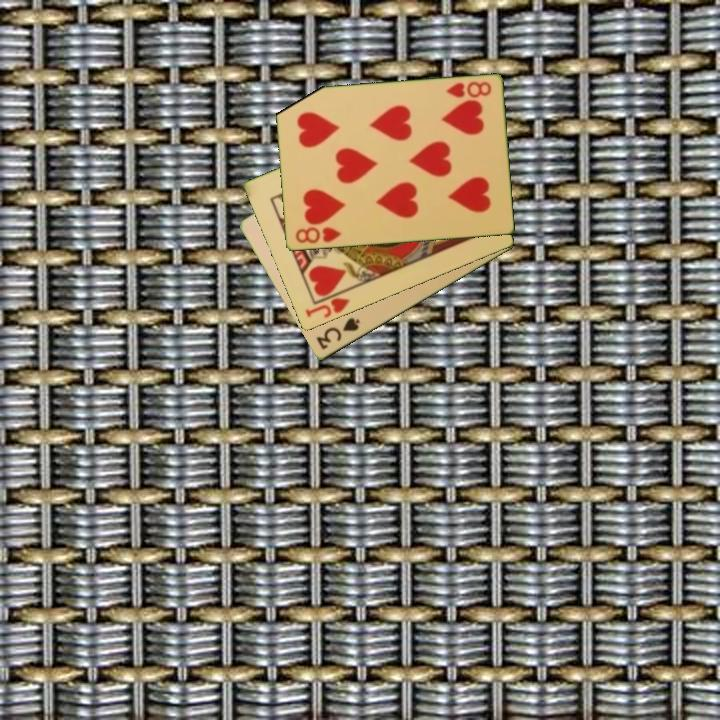3s: (313, 314, 363, 353)
8h: (292, 224, 344, 247), (442, 78, 494, 101)
Jh: (301, 286, 353, 321)
